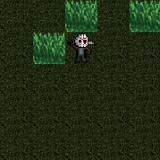Jason: (64, 32, 98, 64)
Slow: (64, 0, 98, 33), (33, 32, 66, 64), (129, 0, 160, 32)
